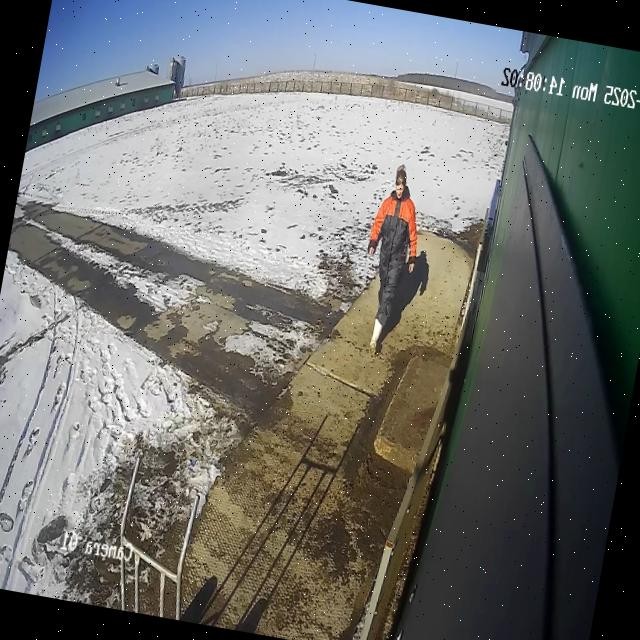Red uniform: (368, 185, 417, 326)
